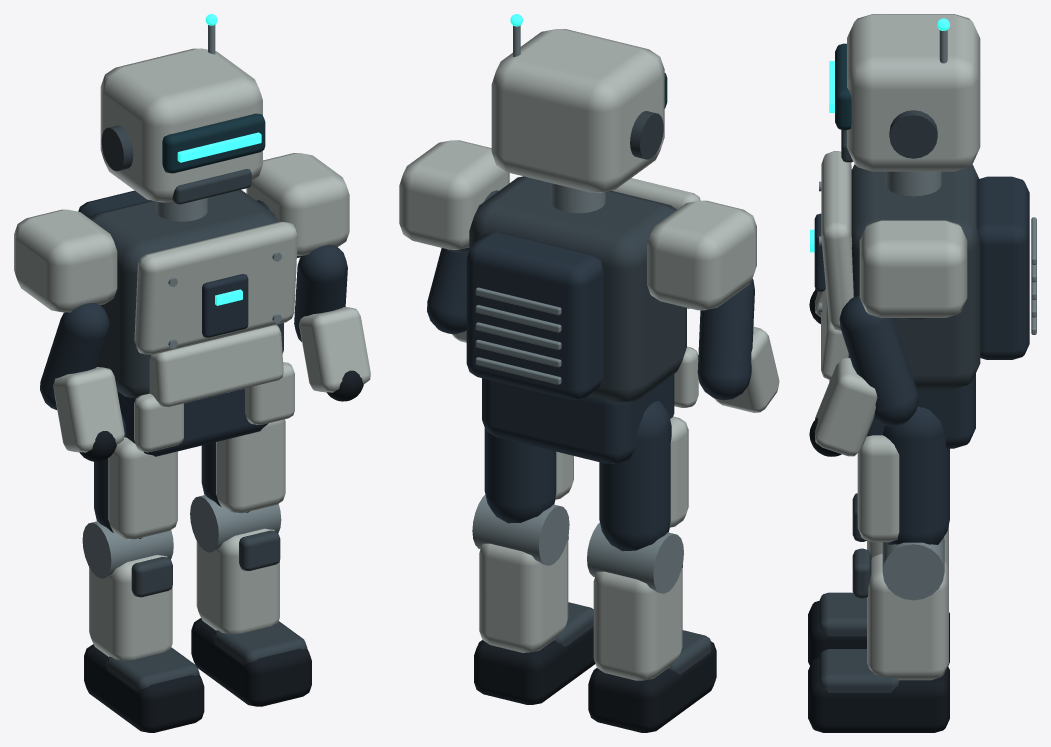
File: operative-body.glb
3 views of the same model, side by side, from view 1: azimuth 30°, elevation 25°; view 2: azimuth 150°, elevation 25°; view 3: azimuth 270°, elevation 25° (orthographic). The views are drawn at different scales.
Parts seen in each view (by area): view 1: torso / Ceramic armor, head / Ceramic armor, arm_L / Ceramic armor, leg_L / Ceramic armor, leg_R / Ceramic armor, arm_R / Ceramic armor, torso / Gunmetal, leg_L / Grip rubber, leg_R / Grip rubber, hips / Ceramic armor, hips / Graphite polymer, arm_L / Graphite polymer (+14 smaller); view 2: head / Ceramic armor, torso / Gunmetal, torso / Graphite polymer, arm_L / Ceramic armor, leg_L / Ceramic armor, hips / Graphite polymer, leg_R / Ceramic armor, arm_R / Ceramic armor, leg_L / Graphite polymer, leg_L / Grip rubber, leg_R / Grip rubber, leg_R / Graphite polymer (+10 smaller); view 3: head / Ceramic armor, arm_R / Ceramic armor, torso / Gunmetal, leg_R / Ceramic armor, torso / Graphite polymer, leg_R / Grip rubber, leg_R / Graphite polymer, torso / Ceramic armor, arm_R / Graphite polymer, leg_R / Gunmetal, leg_R / Brushed titanium, hips / Graphite polymer (+6 smaller).
Part boxes in pixels (x1,y1,x2,y2): torso / Ceramic armor: (134, 221, 297, 407); head / Ceramic armor: (100, 48, 262, 202); arm_L / Ceramic armor: (14, 209, 124, 452); leg_L / Ceramic armor: (89, 437, 177, 660); leg_R / Ceramic armor: (196, 419, 285, 634); arm_R / Ceramic armor: (246, 153, 370, 392); torso / Gunmetal: (89, 189, 283, 398); leg_L / Grip rubber: (84, 644, 204, 732); leg_R / Grip rubber: (191, 618, 311, 706); hips / Ceramic armor: (134, 362, 294, 452); hips / Graphite polymer: (117, 388, 268, 456); arm_L / Graphite polymer: (40, 303, 109, 409); head / Ceramic armor: (491, 29, 664, 192); torso / Gunmetal: (469, 176, 686, 402); torso / Graphite polymer: (466, 232, 603, 399); arm_L / Ceramic armor: (647, 200, 779, 412); leg_L / Ceramic armor: (593, 416, 688, 680); hips / Graphite polymer: (482, 374, 674, 463); leg_R / Ceramic armor: (479, 451, 573, 652); arm_R / Ceramic armor: (399, 140, 509, 342); leg_L / Graphite polymer: (599, 401, 671, 551); leg_L / Grip rubber: (588, 641, 716, 732); leg_R / Grip rubber: (474, 627, 595, 704); leg_R / Graphite polymer: (484, 428, 556, 523); head / Ceramic armor: (847, 14, 980, 171); arm_R / Ceramic armor: (815, 220, 967, 456); torso / Gunmetal: (848, 164, 980, 389); leg_R / Ceramic armor: (857, 435, 948, 680); torso / Graphite polymer: (814, 176, 1029, 359); leg_R / Grip rubber: (808, 657, 949, 732); leg_R / Graphite polymer: (883, 406, 949, 544); torso / Ceramic armor: (821, 151, 853, 379); arm_R / Graphite polymer: (839, 295, 918, 426); leg_R / Gunmetal: (819, 548, 899, 692); leg_R / Brushed titanium: (882, 537, 944, 600); hips / Graphite polymer: (866, 373, 975, 448).
Bounding box in the file's own units: 0.87 × 1.79 × 0.5315.
